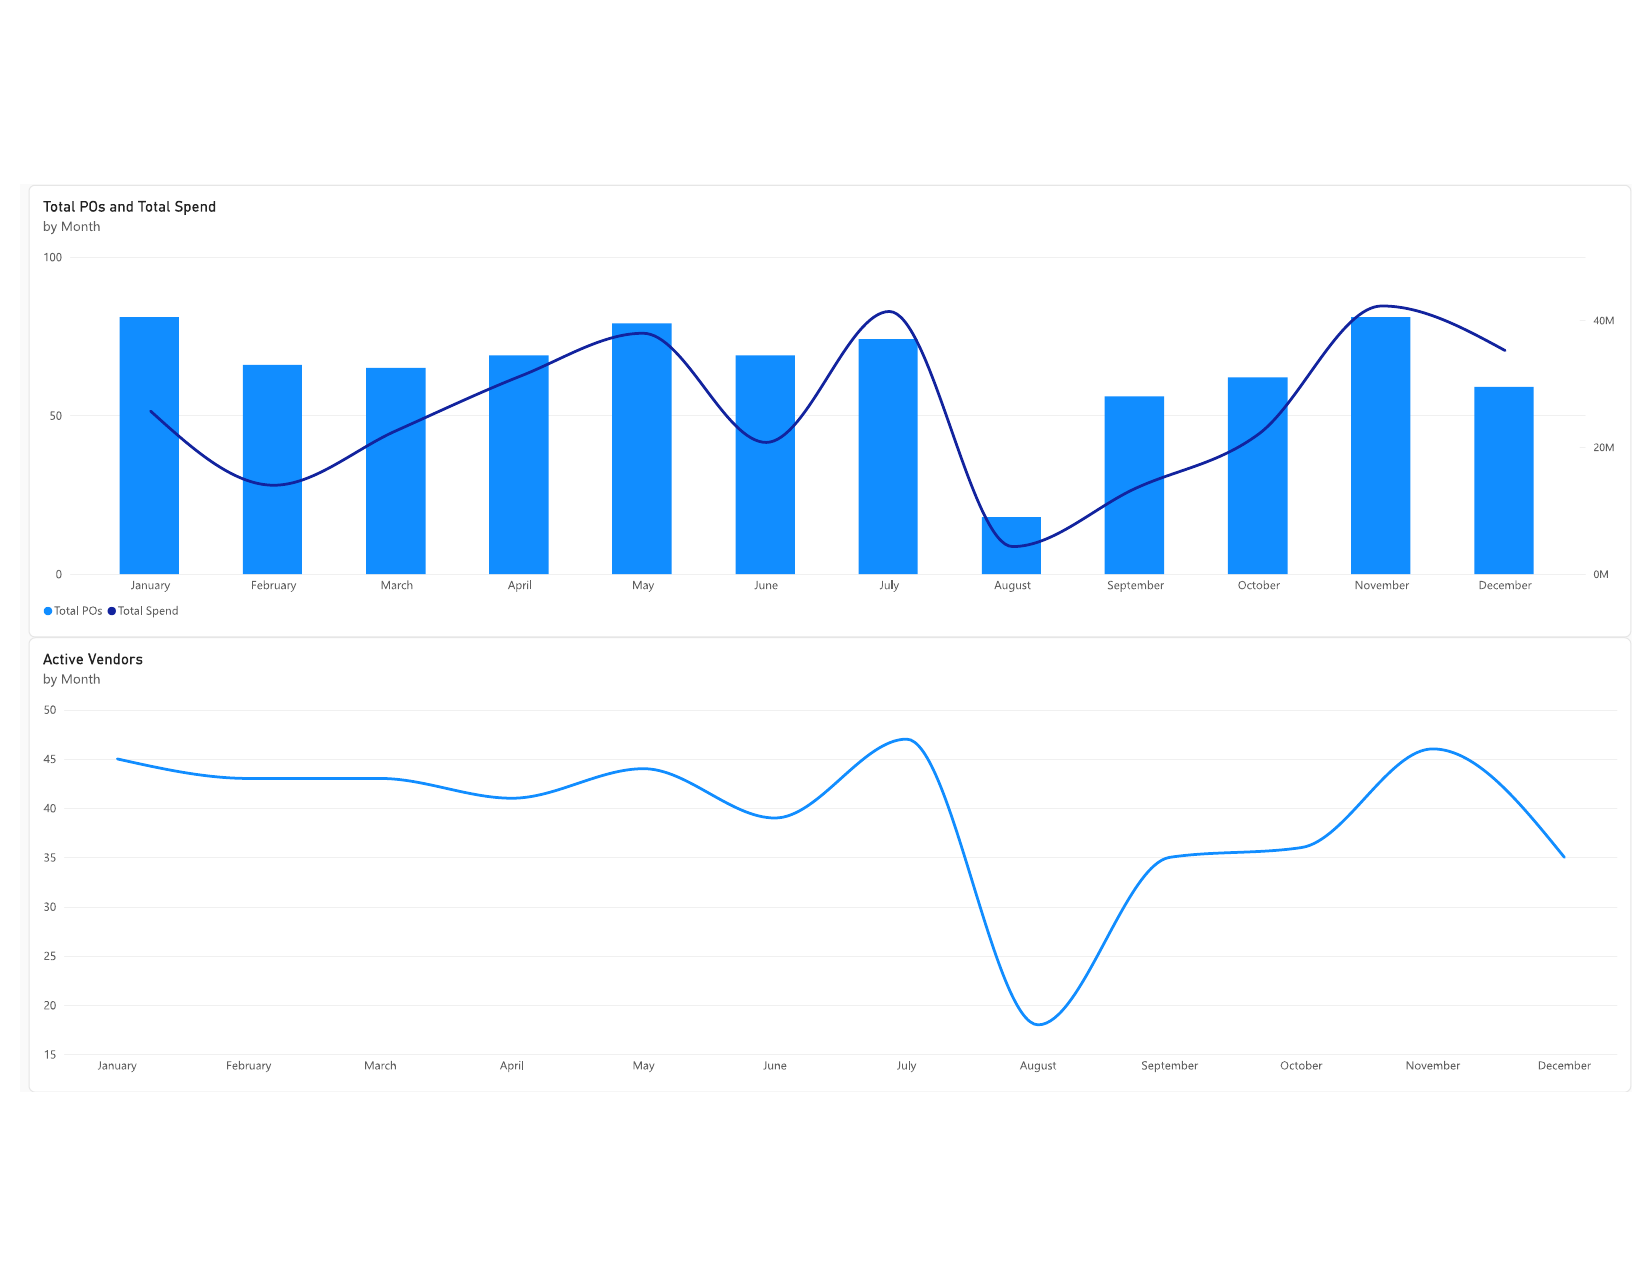

The dashboard page shown, as its layout file describes it:
{"tool":"powerbi","page":{"name":"Monthly Trend","canvas":[1920,1080],"ordinal":13},"visuals":[{"type":"lineStackedColumnComboChart","fields":{"Category":["PO_Data.PODate.Variation.Date Hierarchy.Month"],"Y":["PO_Data.Total POs"],"Y2":["PO_Data.Total Spend"]},"box":[10.3,0,1910.1,539.3],"z":0},{"type":"lineChart","fields":{"Category":["PO_Data.PODate.Variation.Date Hierarchy.Month"],"Y":["PO_Data.Active Vendors"]},"box":[10.3,539.3,1910.1,541.3],"z":1000}]}

Visuals, with their boxes on the page's 1920x1080 design canvas (x1, y1, x2, y2). These are canvas units, not pixel positions in the 1650x1275 screenshot, which may show the page scaled, cropped or inside an application window:
lineStackedColumnComboChart - PO_Data.PODate.Variation.Date Hierarchy.Month x PO_Data.Total POs: bbox=[10, 0, 1920, 539]
lineChart - PO_Data.PODate.Variation.Date Hierarchy.Month x PO_Data.Active Vendors: bbox=[10, 539, 1920, 1081]
